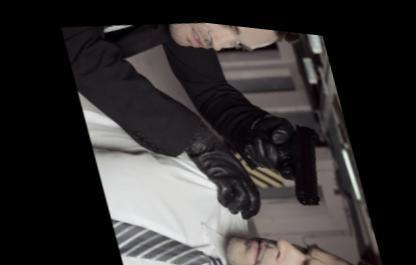pistol: (228, 101, 335, 207)
